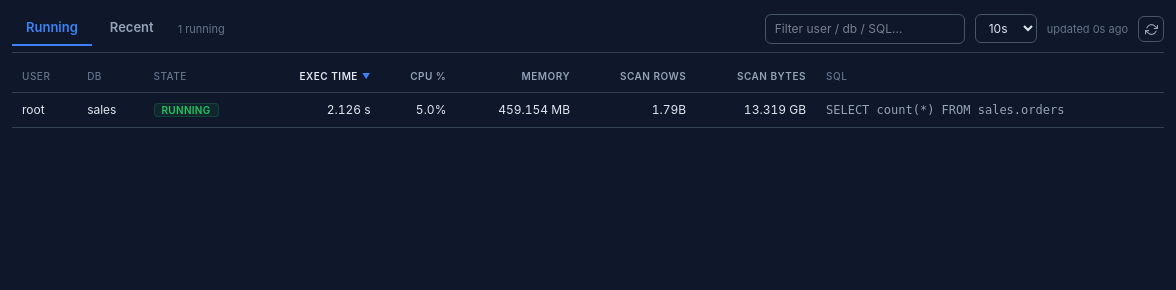
Test: QueriesPanel — CPU share column › shows avg cores in the expanded detail
The image size is (1176, 290).
Expected: the table with test id "queries-table" is shown, [12,60,1164,128]
Click the row with test id "query-row" at (588, 110), box [12,92,1164,127]
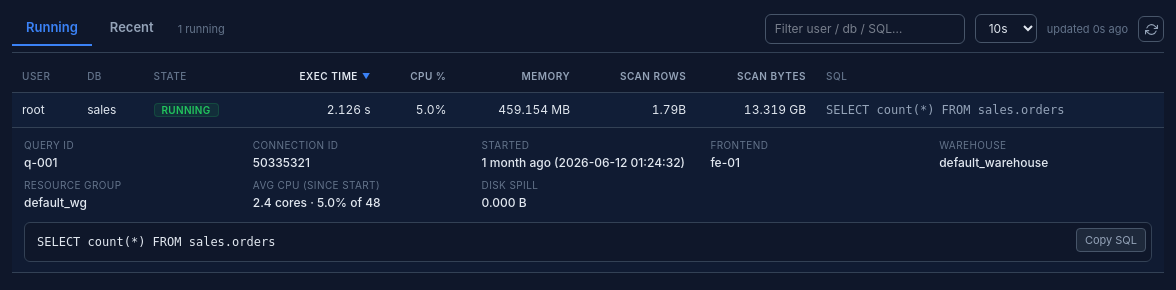
Result: the text "Avg CPU (since start)" is shown at [253,178,380,190]
Result: the text "2.4 cores · 5.0% of 48" is shown at [253,194,381,210]
